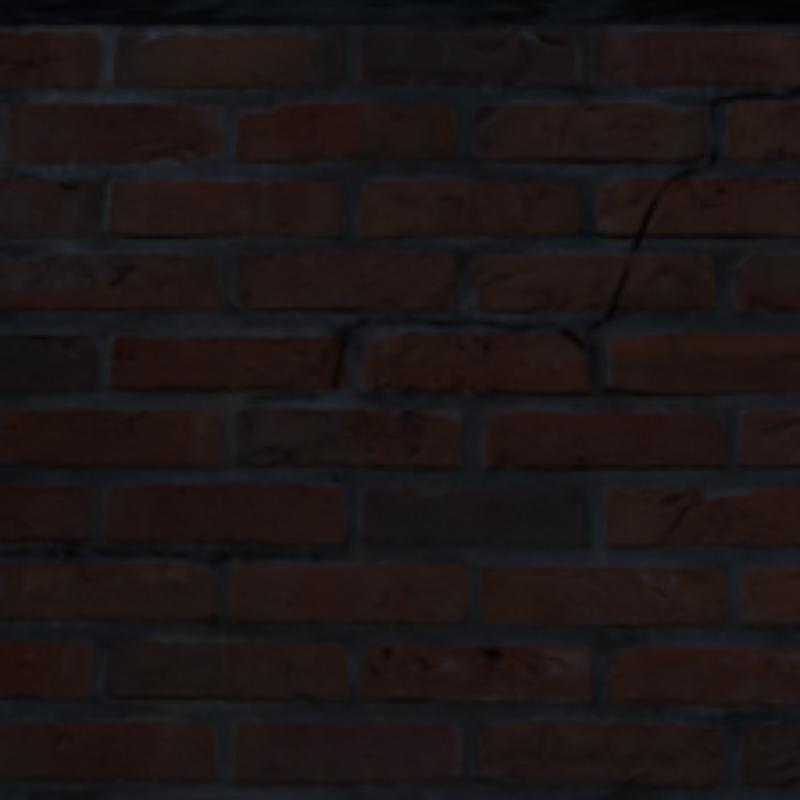crack: (486, 260, 629, 354), (633, 171, 690, 247), (229, 529, 350, 557), (707, 89, 796, 121), (332, 321, 364, 389), (661, 504, 700, 536), (179, 554, 229, 561), (708, 121, 714, 163), (250, 396, 314, 399)
